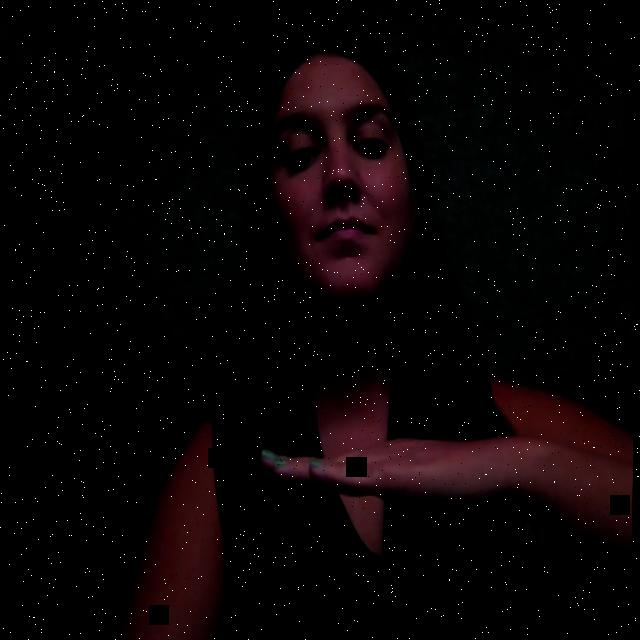Paper: (250, 398, 524, 554)
